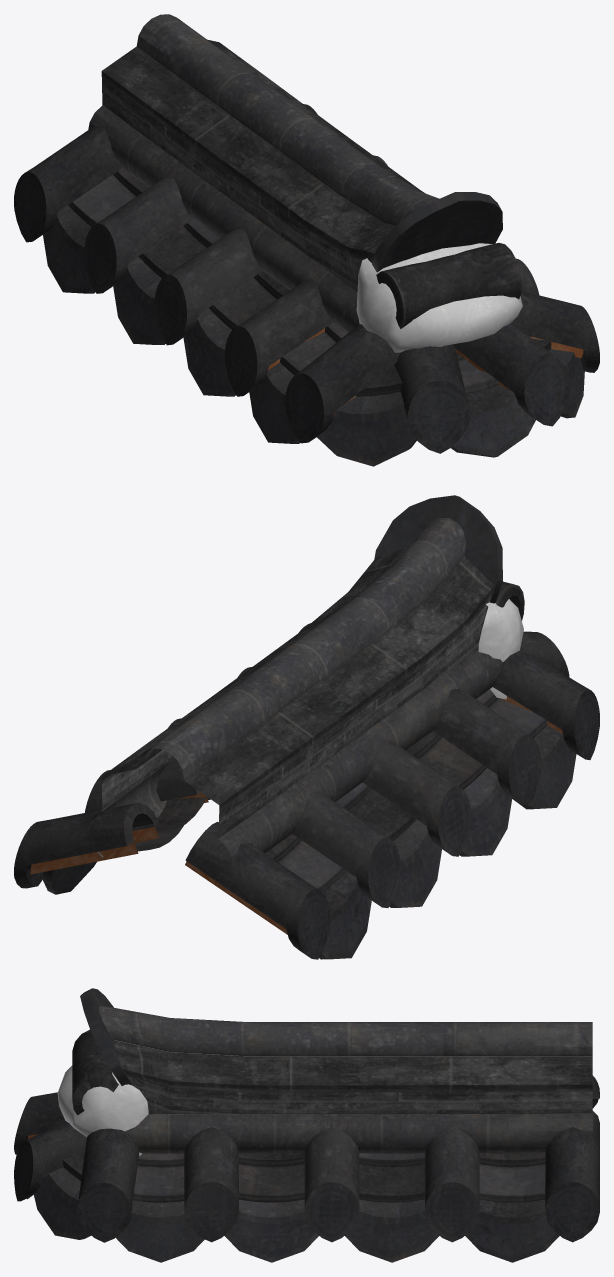
Rendered from SM_HG_Roof02E.fbx.
3 renders of one model, top to bottom at view 1: azimuth 30°, elevation 25°; view 2: azimuth 150°, elevation 25°; view 3: azimuth 270°, elevation 25°, orthographic. The views are drawn at different scales.
Visible parts, largest first — view 1: SM_HG_Roof02E; view 2: SM_HG_Roof02E; view 3: SM_HG_Roof02E.
Boxes of the visible parts, <box> form: SM_HG_Roof02E: <box>14,14,599,466</box>; SM_HG_Roof02E: <box>14,495,599,959</box>; SM_HG_Roof02E: <box>14,988,599,1262</box>.
Bounding box in the file's own units: 58.01 × 118 × 47.2.
1 material, 1 textured.
